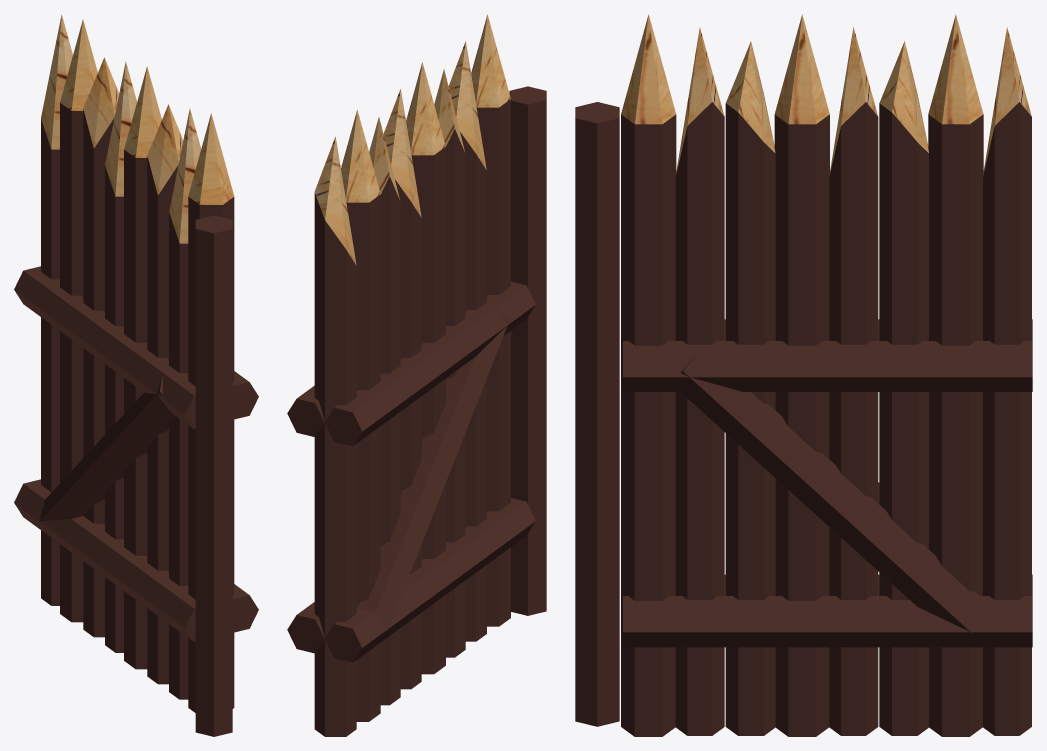
File: Door_02.fbx
The picture shows the model from 3 angles, left to right: view 1: azimuth 30°, elevation 25°; view 2: azimuth 150°, elevation 25°; view 3: azimuth 270°, elevation 25°; orthographic projection. The views are drawn at different scales.
Visible parts, largest first — view 1: Door_02; view 2: Door_02; view 3: Door_02.
Boxes of the visible parts, x1,y1,x2,y2 form: Door_02: (14, 14, 258, 736); Door_02: (287, 14, 546, 736); Door_02: (575, 14, 1032, 736).
Size of the model in its own units: 76 by 584 by 339.
